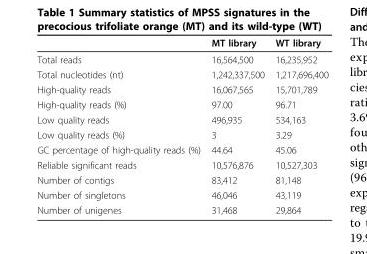table: (36, 36, 327, 215)
table column: (36, 36, 205, 215), (205, 36, 269, 215), (269, 36, 327, 215)
table column header: (36, 36, 327, 50)
table row: (36, 50, 327, 66), (36, 141, 327, 157), (36, 66, 327, 81), (36, 81, 327, 96), (36, 96, 327, 111), (36, 111, 327, 126), (36, 126, 327, 141), (36, 157, 327, 172), (36, 172, 327, 187), (36, 187, 327, 202), (36, 36, 327, 50), (36, 202, 327, 215)
